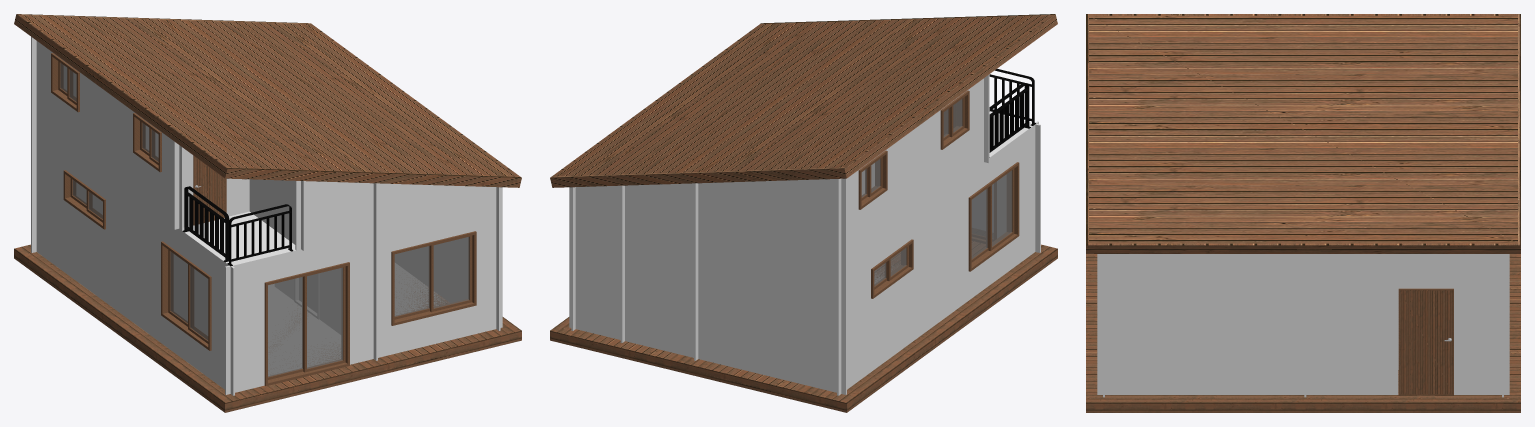
File: ADU_Example.dae
The picture shows the model from 3 angles, left to right: view 1: azimuth 30°, elevation 25°; view 2: azimuth 150°, elevation 25°; view 3: azimuth 270°, elevation 25°; orthographic projection. The views are drawn at different scales.
Parts seen in each view (by area): view 1: Mesh (×23), Instance-Def-fance02_01 (×2), Instance-Def-900x2100_1_01; view 2: Mesh (×16), Instance-Def-fance02_01 (×2); view 3: Mesh (×8).
Boxes of the visible parts, x1=… form: Mesh (×23): x1=14, y1=14, x2=521, y2=412; Instance-Def-fance02_01 (×2): x1=183, y1=186, x2=293, y2=266; Instance-Def-900x2100_1_01: x1=294, y1=274, x2=318, y2=318; Mesh (×16): x1=550, y1=14, x2=1057, y2=412; Instance-Def-fance02_01 (×2): x1=989, y1=68, x2=1036, y2=157; Mesh (×8): x1=1086, y1=14, x2=1520, y2=412.
Size of the model in its own units: 7.19 by 8.85 by 5.64.
